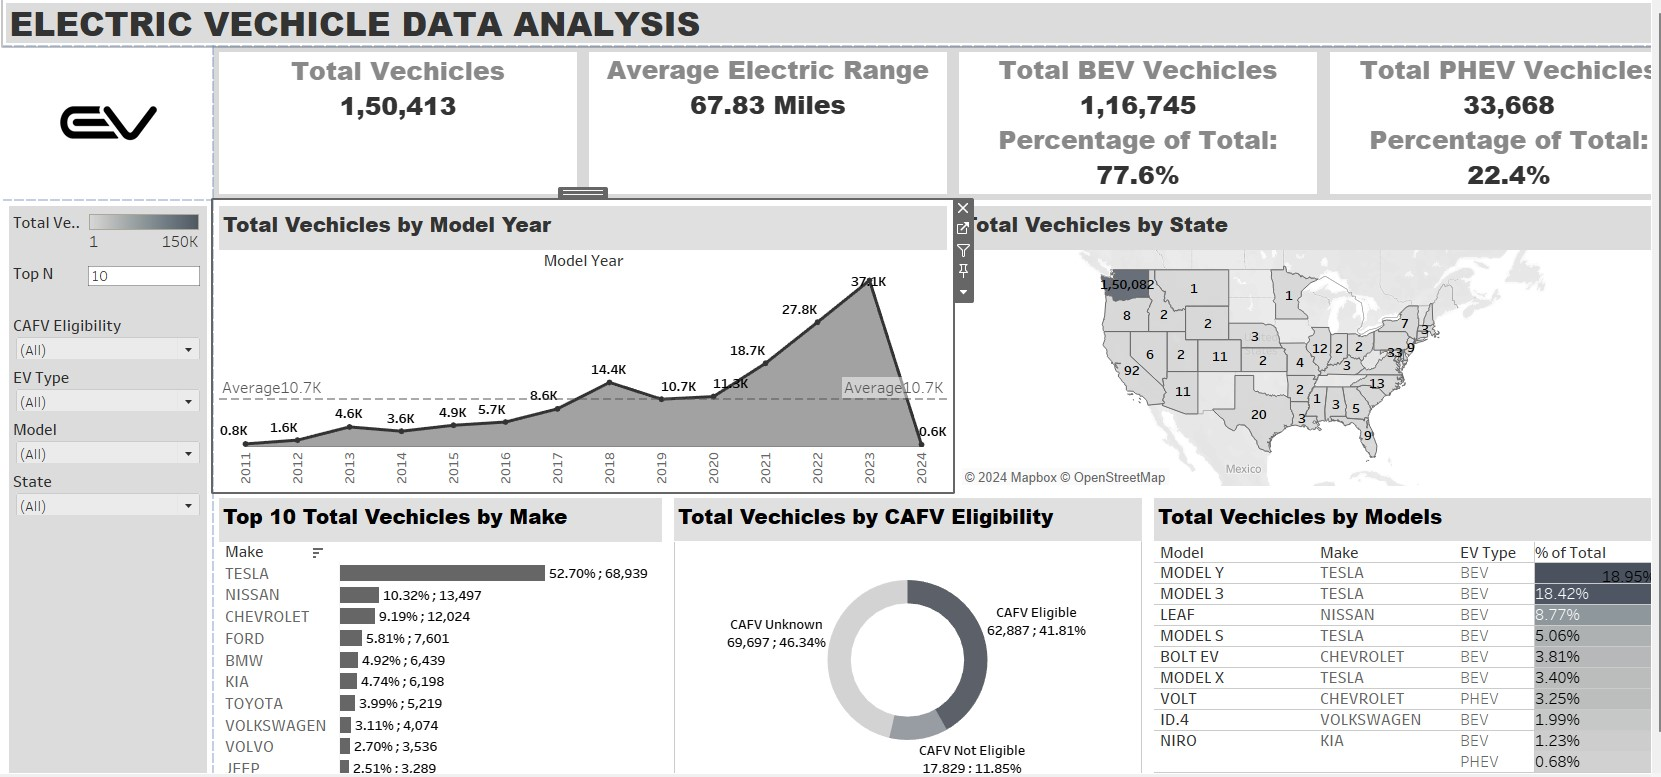

The dashboard page shown, as its layout file describes it:
{"tool":"tableau","page":{"name":"ELECTRIC VECHICLE DATA ANALYSIS","canvas":[1000,1000],"units":"permille","ordinal":0},"visuals":[{"type":"title","box":[4.7,10,990.6,57.4]},{"type":"image","param":"C:/Users/Aysha/Downloads/ev.jpg","box":[4.7,67.4,123,192.3]},{"type":"worksheet","title":"Total Vechicles","mark":"Automatic","box":[127.7,67.4,216.9,192]},{"type":"worksheet","title":"Average Electric Range","mark":"Automatic","box":[344.6,67.4,216.9,192]},{"type":"worksheet","title":"Total BEV Vechicles","mark":"Automatic","box":[561.5,67.4,216.9,192]},{"type":"worksheet","title":"Total PHEV Vechicles","mark":"Automatic","box":[778.4,67.4,216.9,192]},{"type":"worksheet","title":"Total Vechicles by Model Year","mark":"Area","rows":["Calculation_1588081830234963968","Calculation_1588081830234963968"],"cols":["Model Year"],"box":[127.7,259.4,433.5,365.3]},{"type":"worksheet","title":"Total Vechicles by State","mark":"Multipolygon","box":[561.2,259.4,434.2,365.3]},{"type":"legend","title":"Total Vechicles by State","param":"[federated.1eaz2yj1flu1dl13ggg6v093gx7y].[usr:Calculation_1588081830234963968:qk","box":[8.2,267.2,116,66.2]},{"type":"parameter","param":"[Parameters].[Parameter 1]","box":[8.2,333.3,116,64.9]},{"type":"filter","title":"Total Vechicles by Model Year","param":"[federated.1eaz2yj1flu1dl13ggg6v093gx7y].[none:Clean Alternative Fuel Vehicle (C","box":[8.2,398.2,116,64.9]},{"type":"filter","title":"Total Vechicles by Model Year","param":"[federated.1eaz2yj1flu1dl13ggg6v093gx7y].[none:Electric Vehicle Type:nk]","box":[8.2,463.2,116,64.9]},{"type":"filter","title":"Total Vechicles by Model Year","param":"[federated.1eaz2yj1flu1dl13ggg6v093gx7y].[none:Model:nk]","box":[8.2,528.1,116,64.9]},{"type":"filter","title":"Total Vechicles by Model Year","param":"[federated.1eaz2yj1flu1dl13ggg6v093gx7y].[none:State:nk]","box":[8.2,593,116,64.9]},{"type":"worksheet","title":"Top 10 Total Vechicles by Make","mark":"Automatic","rows":["Make"],"cols":["Calculation_1588081830234963968"],"box":[127.7,624.7,266.6,365.3]},{"type":"worksheet","title":"Total Vechicles by CAFV Eligibility","mark":"Pie","rows":["Calculation_1588081830596714506","Calculation_1588081830596714506"],"box":[394.2,624.7,281.2,365.3]},{"type":"worksheet","title":"Total Vechicles by Models","mark":"Square","rows":["Model","Make","Electric Vehicle Type"],"box":[675.5,624.7,319.9,365.3]},{"type":"blank","box":[8.2,657.9,116,64.9]},{"type":"blank","box":[8.2,722.9,116,64.9]},{"type":"blank","box":[8.2,787.8,116,64.9]},{"type":"blank","box":[8.2,852.7,116,64.9]},{"type":"blank","box":[8.2,917.6,116,64.9]}]}

Visuals, with their boxes on the dashboard's canvas, which has no fixed pixel size, in thousandths of its width and height (x1, y1, x2, y2). These are canvas units, not pixel positions in the 1661x777 screenshot, which may show the page scaled, cropped or inside an application window:
title: x1=5 y1=10 x2=995 y2=67
image: x1=5 y1=67 x2=128 y2=260
"Total Vechicles" worksheet: x1=128 y1=67 x2=345 y2=259
"Average Electric Range" worksheet: x1=345 y1=67 x2=562 y2=259
"Total BEV Vechicles" worksheet: x1=562 y1=67 x2=778 y2=259
"Total PHEV Vechicles" worksheet: x1=778 y1=67 x2=995 y2=259
"Total Vechicles by Model Year" worksheet (Area marks): x1=128 y1=259 x2=561 y2=625
"Total Vechicles by State" worksheet (Multipolygon marks): x1=561 y1=259 x2=995 y2=625
"Total Vechicles by State" legend: x1=8 y1=267 x2=124 y2=333
parameter: x1=8 y1=333 x2=124 y2=398
"Total Vechicles by Model Year" filter: x1=8 y1=398 x2=124 y2=463
"Total Vechicles by Model Year" filter: x1=8 y1=463 x2=124 y2=528
"Total Vechicles by Model Year" filter: x1=8 y1=528 x2=124 y2=593
"Total Vechicles by Model Year" filter: x1=8 y1=593 x2=124 y2=658
"Top 10 Total Vechicles by Make" worksheet: x1=128 y1=625 x2=394 y2=990
"Total Vechicles by CAFV Eligibility" worksheet (Pie marks): x1=394 y1=625 x2=675 y2=990
"Total Vechicles by Models" worksheet (Square marks): x1=676 y1=625 x2=995 y2=990
blank: x1=8 y1=658 x2=124 y2=723
blank: x1=8 y1=723 x2=124 y2=788
blank: x1=8 y1=788 x2=124 y2=853
blank: x1=8 y1=853 x2=124 y2=918
blank: x1=8 y1=918 x2=124 y2=982
